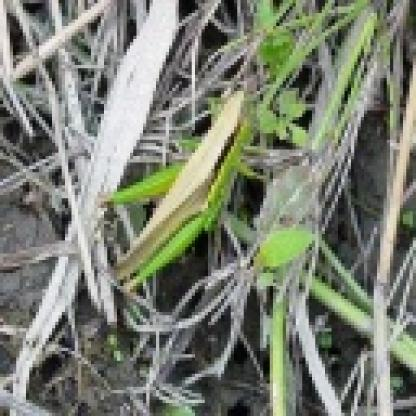grasshopper: (105, 82, 258, 294)
